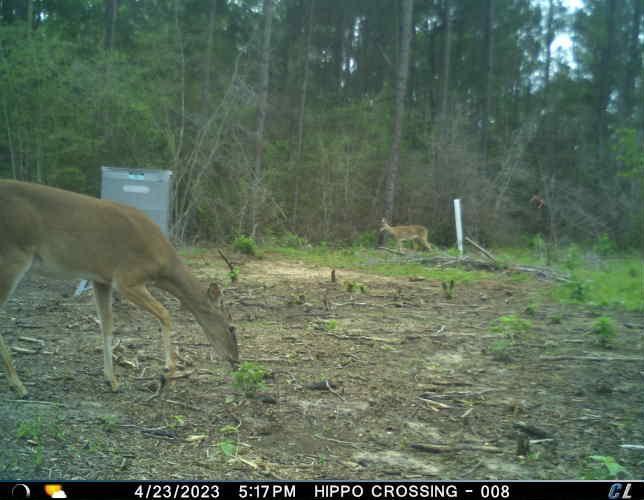Deer: (0, 174, 244, 400), (377, 216, 438, 260)
